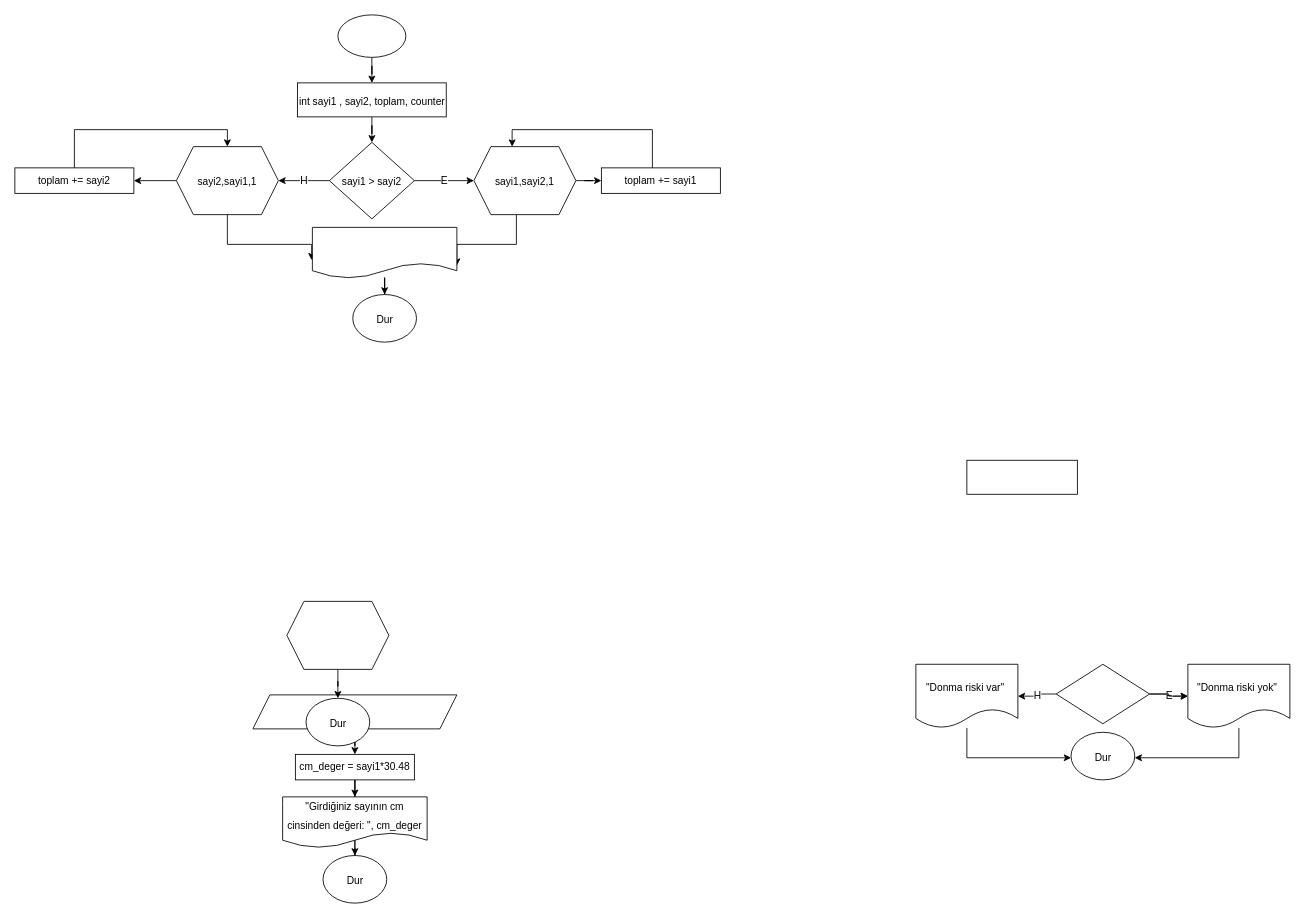
Image size: 1305x918. Some labels were removed from this diagram. Here are the shapes that lost their labels. From the top down, the box of each, then its label:
(337, 14, 406, 57): Başla
(312, 227, 457, 278): "Toplam: ", toplam
(966, 459, 1077, 494): int sayi1, cm_deger
(286, 601, 389, 669): sayi1,10,1
(252, 694, 457, 729): " Feet Değeri Girin:", sayi1
(1055, 663, 1150, 724): sayi1 > 0
